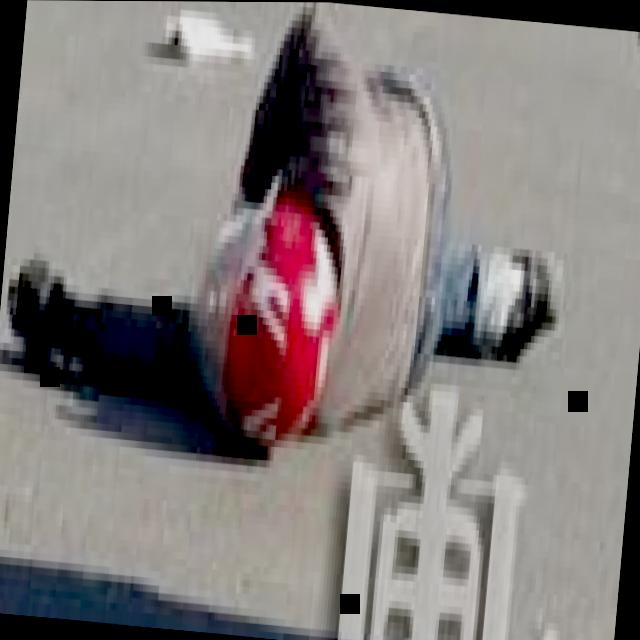Fall-Detected: (0, 0, 584, 471)
